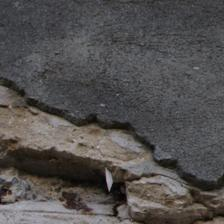Crack: (14, 62, 117, 157), (98, 154, 153, 224)
